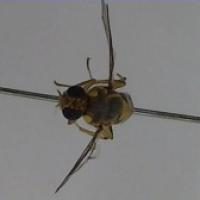Oriental-fruit-fly: (34, 7, 140, 199)
